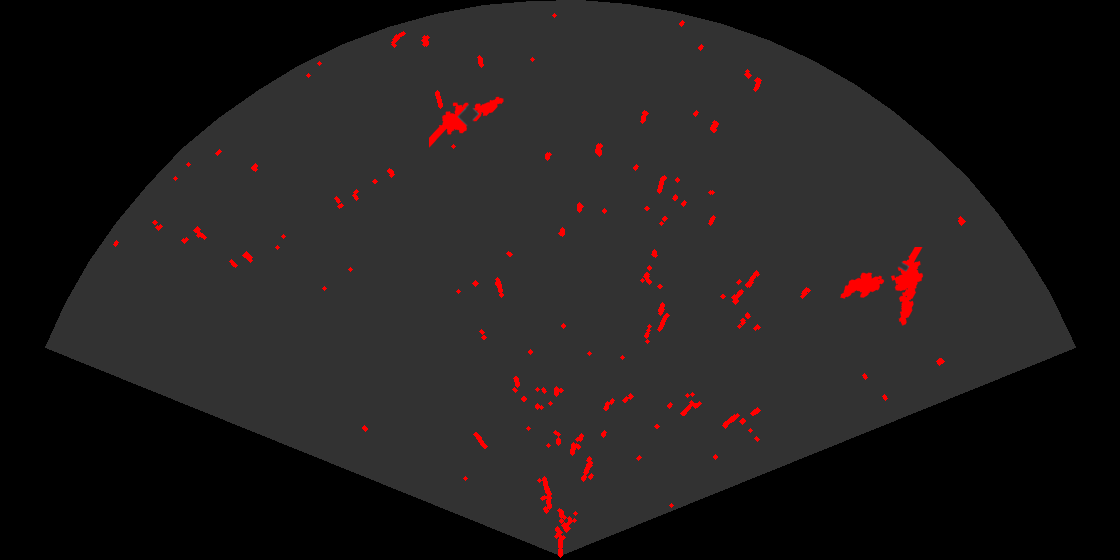AUV: (839, 271, 886, 300)
frogman: (429, 95, 505, 149), (889, 247, 925, 327)
